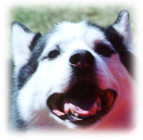dog: (9, 8, 137, 133)
